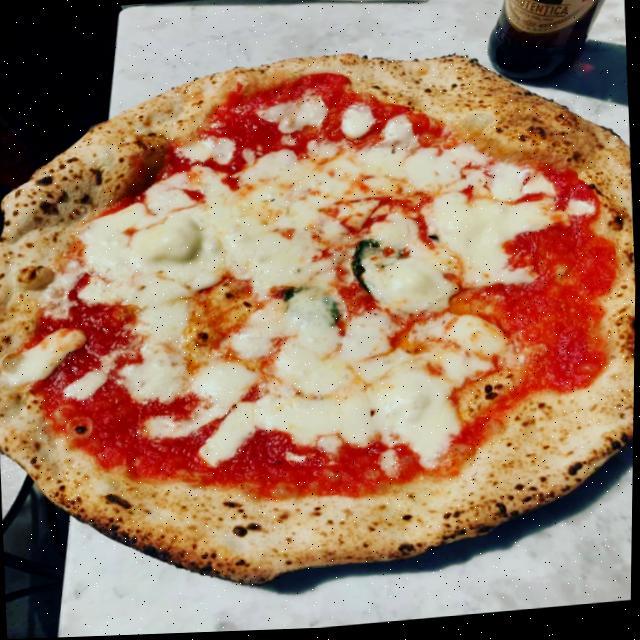basil: (283, 275, 349, 331), (342, 233, 391, 300)
pizza: (0, 33, 639, 604)
